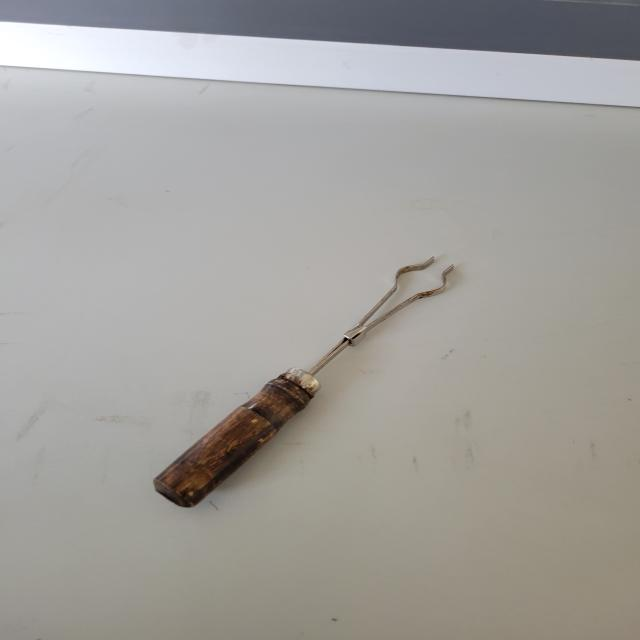TestTube_Holder: (125, 198, 497, 556)
